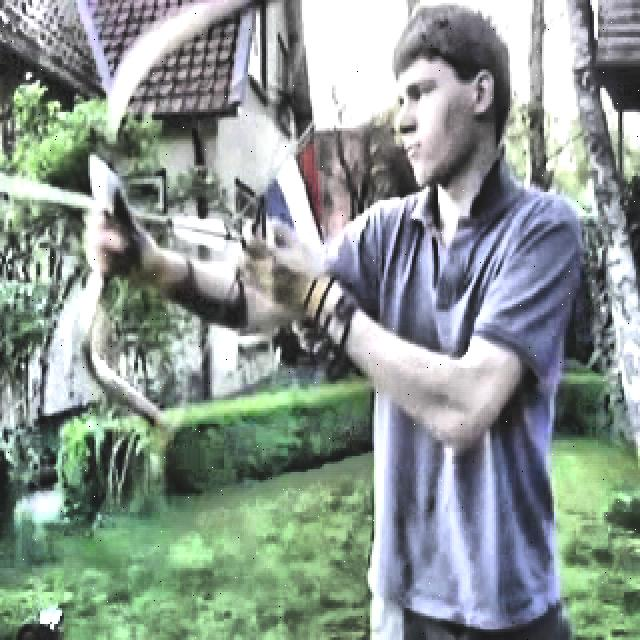P: (80, 1, 584, 632)
